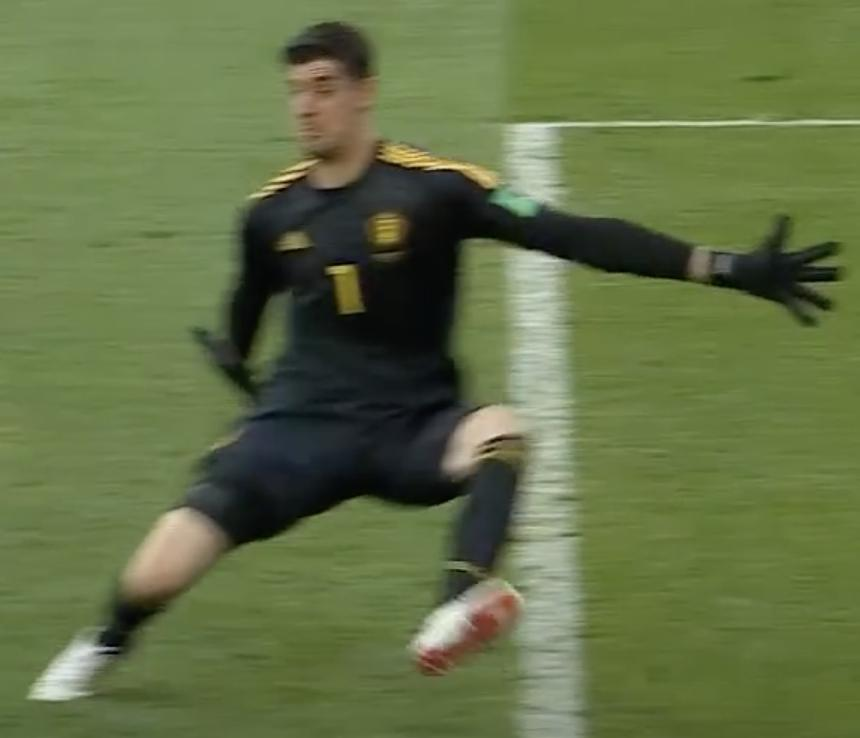goalkeeper: (0, 4, 860, 712)
